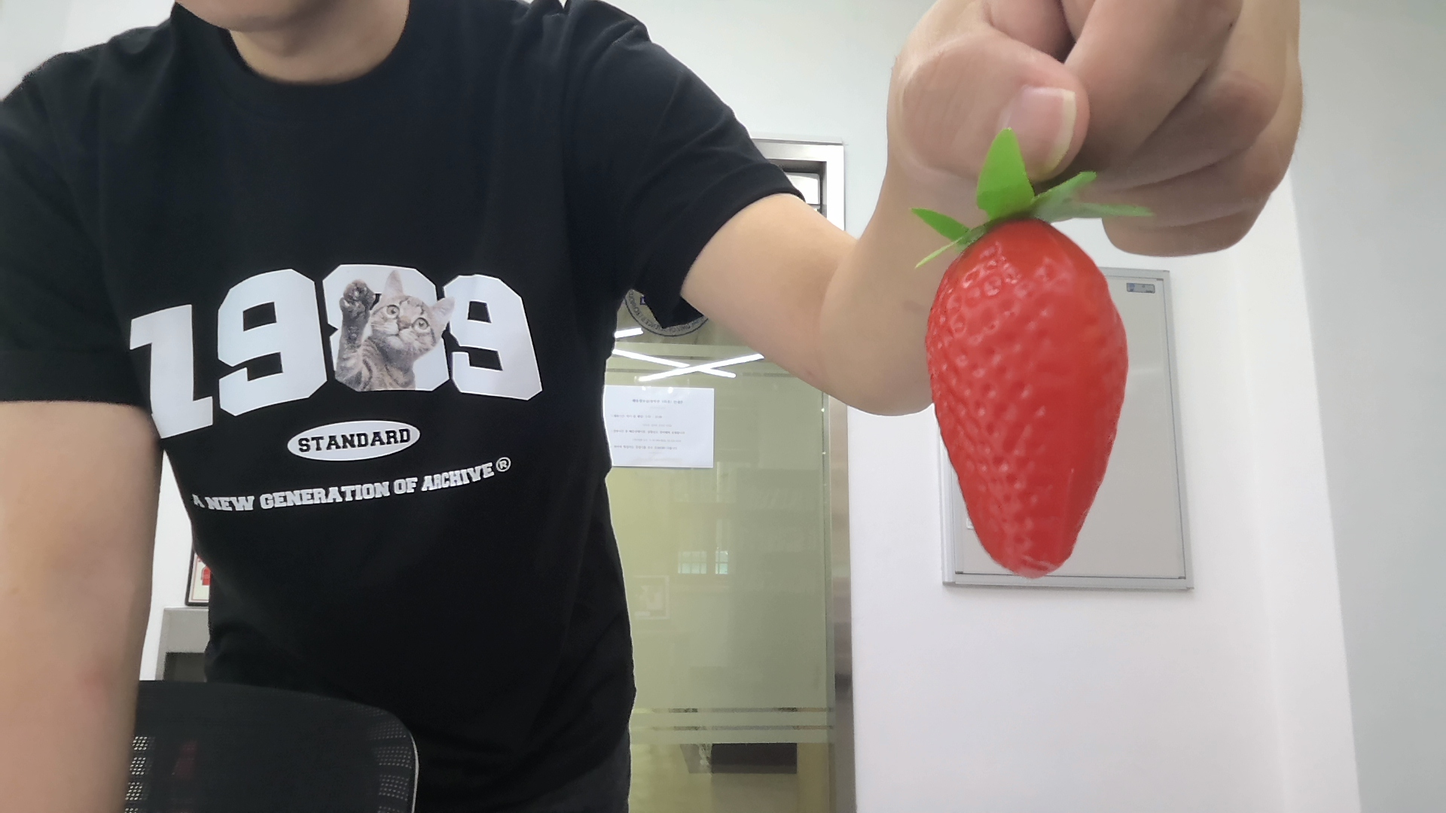strawberry: (908, 192, 1151, 587)
